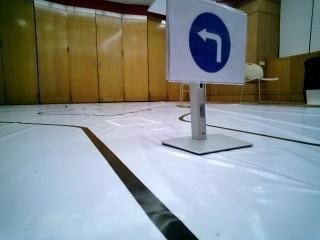left: (174, 7, 242, 86)
